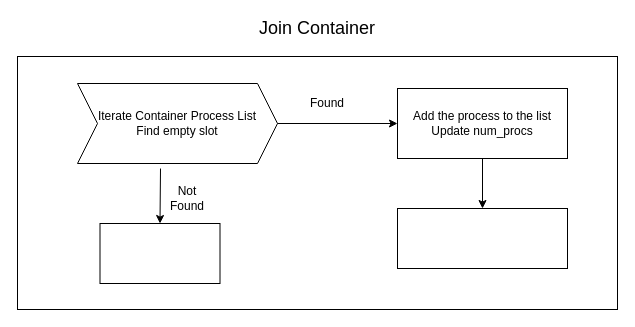
The diagram is 635 pixels wide and 327 high, and some of its shapes have lost their labels. The centre of each missing label's shape, as x and y in pixels:
"Assign the proc.cont_id to be current cont_id" goes at point (482, 238).
"Return ERROR" goes at point (159, 253).
